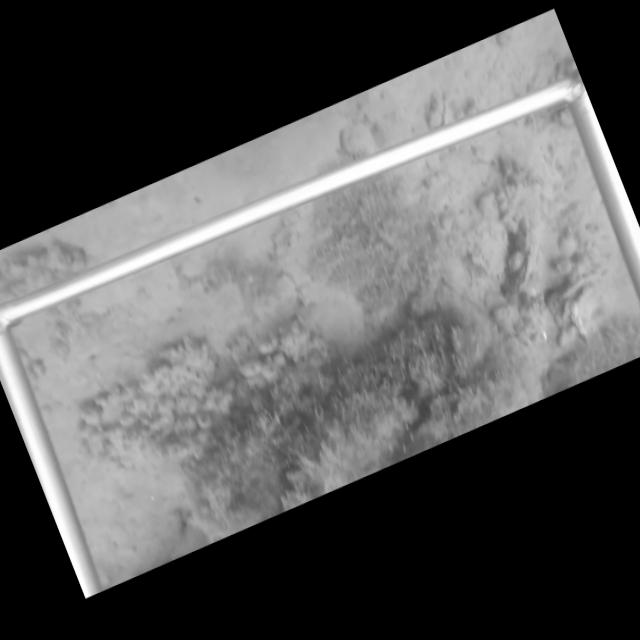Oyster-Closed: (510, 214, 542, 303)
Oyster-Indeterminate: (338, 122, 382, 157)
